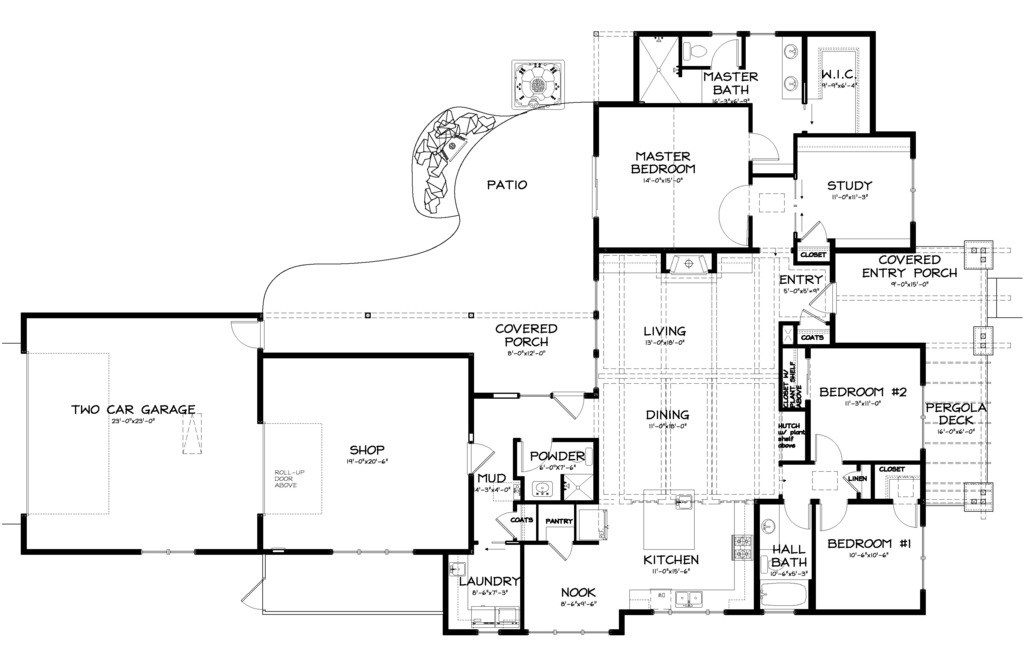door: (225, 313, 276, 359), (459, 436, 500, 482), (546, 388, 593, 426), (236, 576, 276, 616), (809, 430, 852, 466), (537, 535, 584, 567), (705, 34, 742, 72), (514, 434, 550, 472), (818, 501, 853, 537), (779, 494, 811, 533), (749, 128, 780, 161), (494, 506, 523, 541), (810, 279, 838, 312), (794, 306, 832, 330), (796, 220, 831, 242), (891, 502, 917, 529)
large_sink: (680, 37, 708, 68), (757, 549, 788, 577)
small_sink: (782, 35, 804, 95), (752, 504, 782, 547), (520, 476, 565, 497)
tub: (754, 577, 806, 609)
twin_sink: (675, 588, 702, 610)
window: (128, 539, 205, 564), (333, 545, 411, 559), (905, 154, 920, 224), (589, 153, 602, 212)
